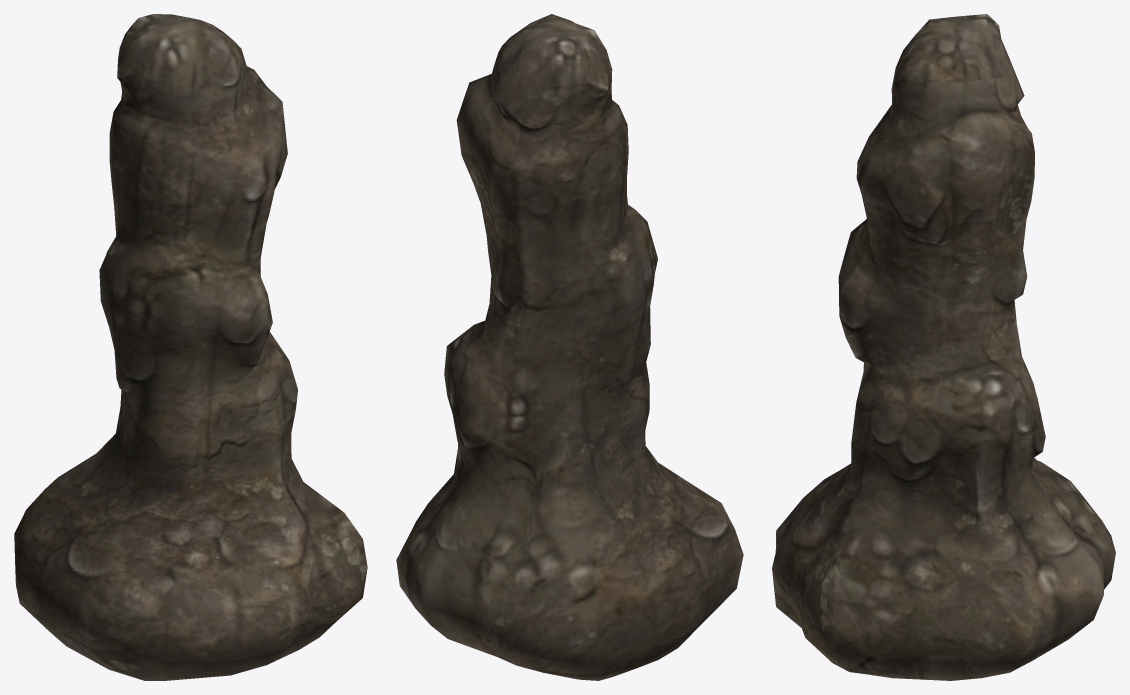
File: stalagmite_collumn_02.dae
The picture shows the model from 3 angles, left to right: view 1: azimuth 30°, elevation 25°; view 2: azimuth 150°, elevation 25°; view 3: azimuth 270°, elevation 25°; orthographic projection.
Parts seen in each view (by area): view 1: stalagmite_collumn_02__2_; view 2: stalagmite_collumn_02__2_; view 3: stalagmite_collumn_02__2_.
Part boxes in pixels (x1=…): stalagmite_collumn_02__2_: x1=14, y1=14, x2=367, y2=680; stalagmite_collumn_02__2_: x1=396, y1=14, x2=743, y2=680; stalagmite_collumn_02__2_: x1=772, y1=14, x2=1115, y2=680.
Size of the model in its own units: 0.66 by 1.39 by 0.6887.
